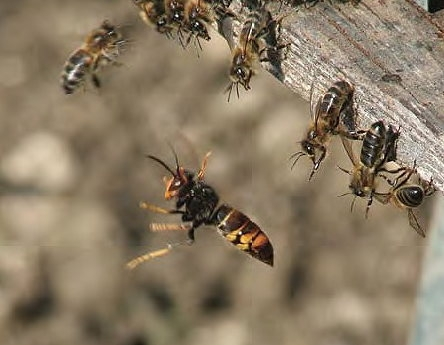bee: (61, 25, 131, 97), (307, 78, 352, 169), (223, 15, 275, 92), (350, 123, 385, 211), (139, 3, 214, 43), (389, 176, 429, 218)
hornet: (134, 149, 282, 268)
